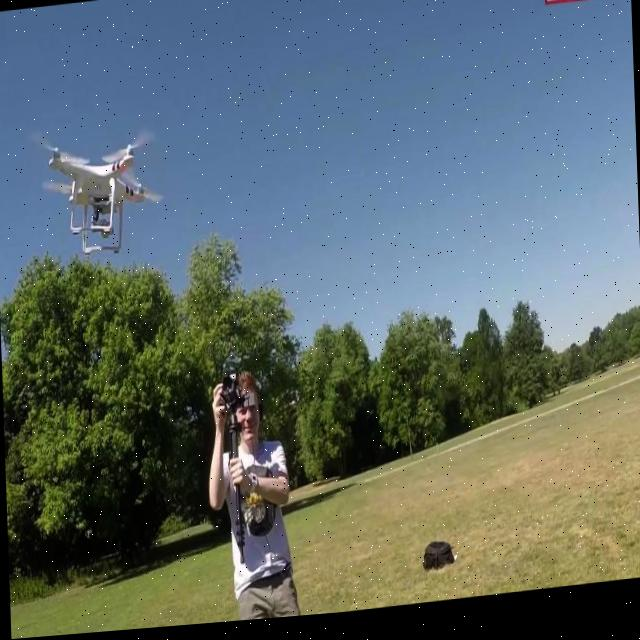drone: (30, 119, 164, 266)
